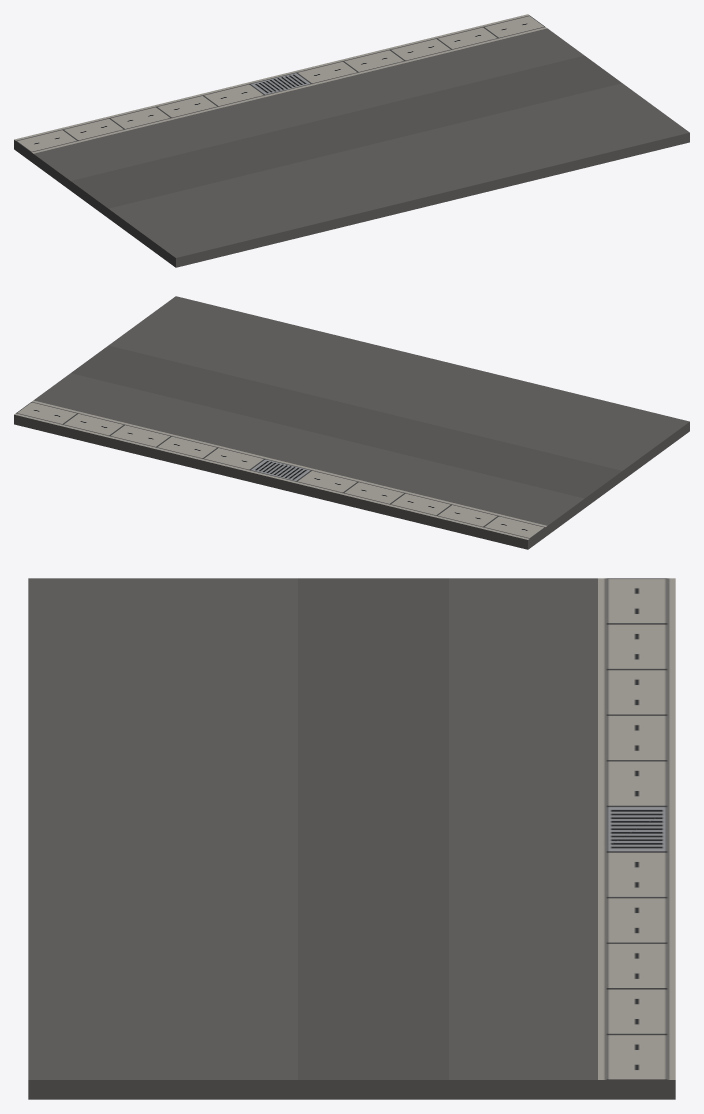
Rendered from SM_Ground_Alley_300x550_PatchB_01.fbx.
3 views of the same model, one above another, from view 1: azimuth 30°, elevation 25°; view 2: azimuth 150°, elevation 25°; view 3: azimuth 270°, elevation 25° (orthographic). The views are drawn at different scales.
Parts seen in each view (by area): view 1: SM_Ground_Alley_300x550_PatchB_01; view 2: SM_Ground_Alley_300x550_PatchB_01; view 3: SM_Ground_Alley_300x550_PatchB_01.
Boxes of the visible parts, left/top/right/bottom form: SM_Ground_Alley_300x550_PatchB_01: left=14, top=14, right=689, bottom=267; SM_Ground_Alley_300x550_PatchB_01: left=14, top=296, right=689, bottom=549; SM_Ground_Alley_300x550_PatchB_01: left=28, top=578, right=675, bottom=1099.
Bounding box in the file's own units: 5.5 × 0.1 × 3.
1 material, 1 textured.
